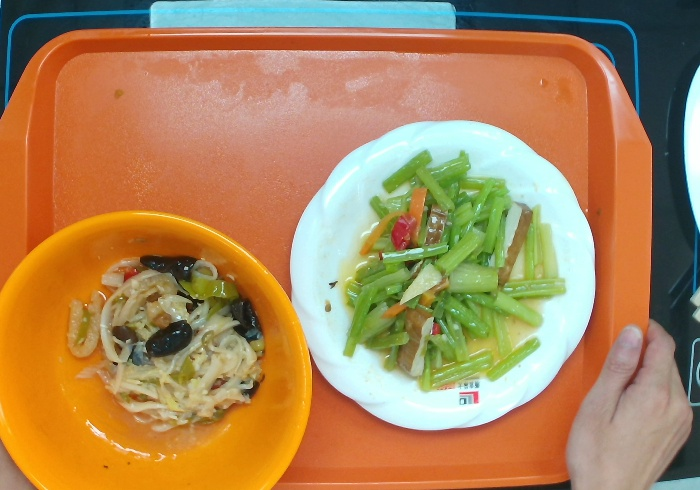ZNLD-Hua_Bian_Wan: (288, 109, 600, 427)
ZNLD-Ju_Se_Tang_Wan: (5, 209, 310, 490)
